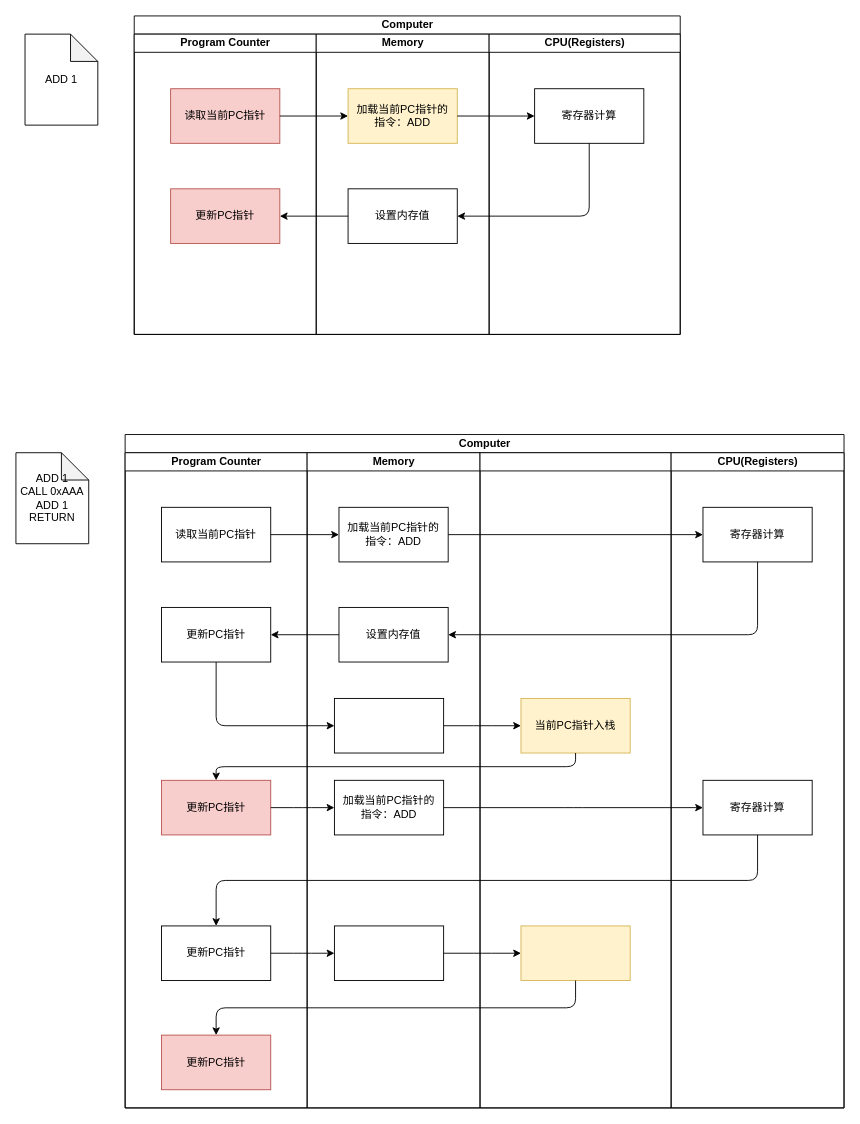
This 860x1124 diagram has some shape labels left out. The box of each missing label's shape, as (x1, y1, x2, y2) in pixels:
Stack: (479, 452, 671, 1108)
加载当前PC指针的 指令：CALL: (334, 698, 444, 753)
加载当前PC指针的 指令：RETURN: (334, 925, 444, 981)
栈顶PC指针出栈: (520, 925, 630, 981)
